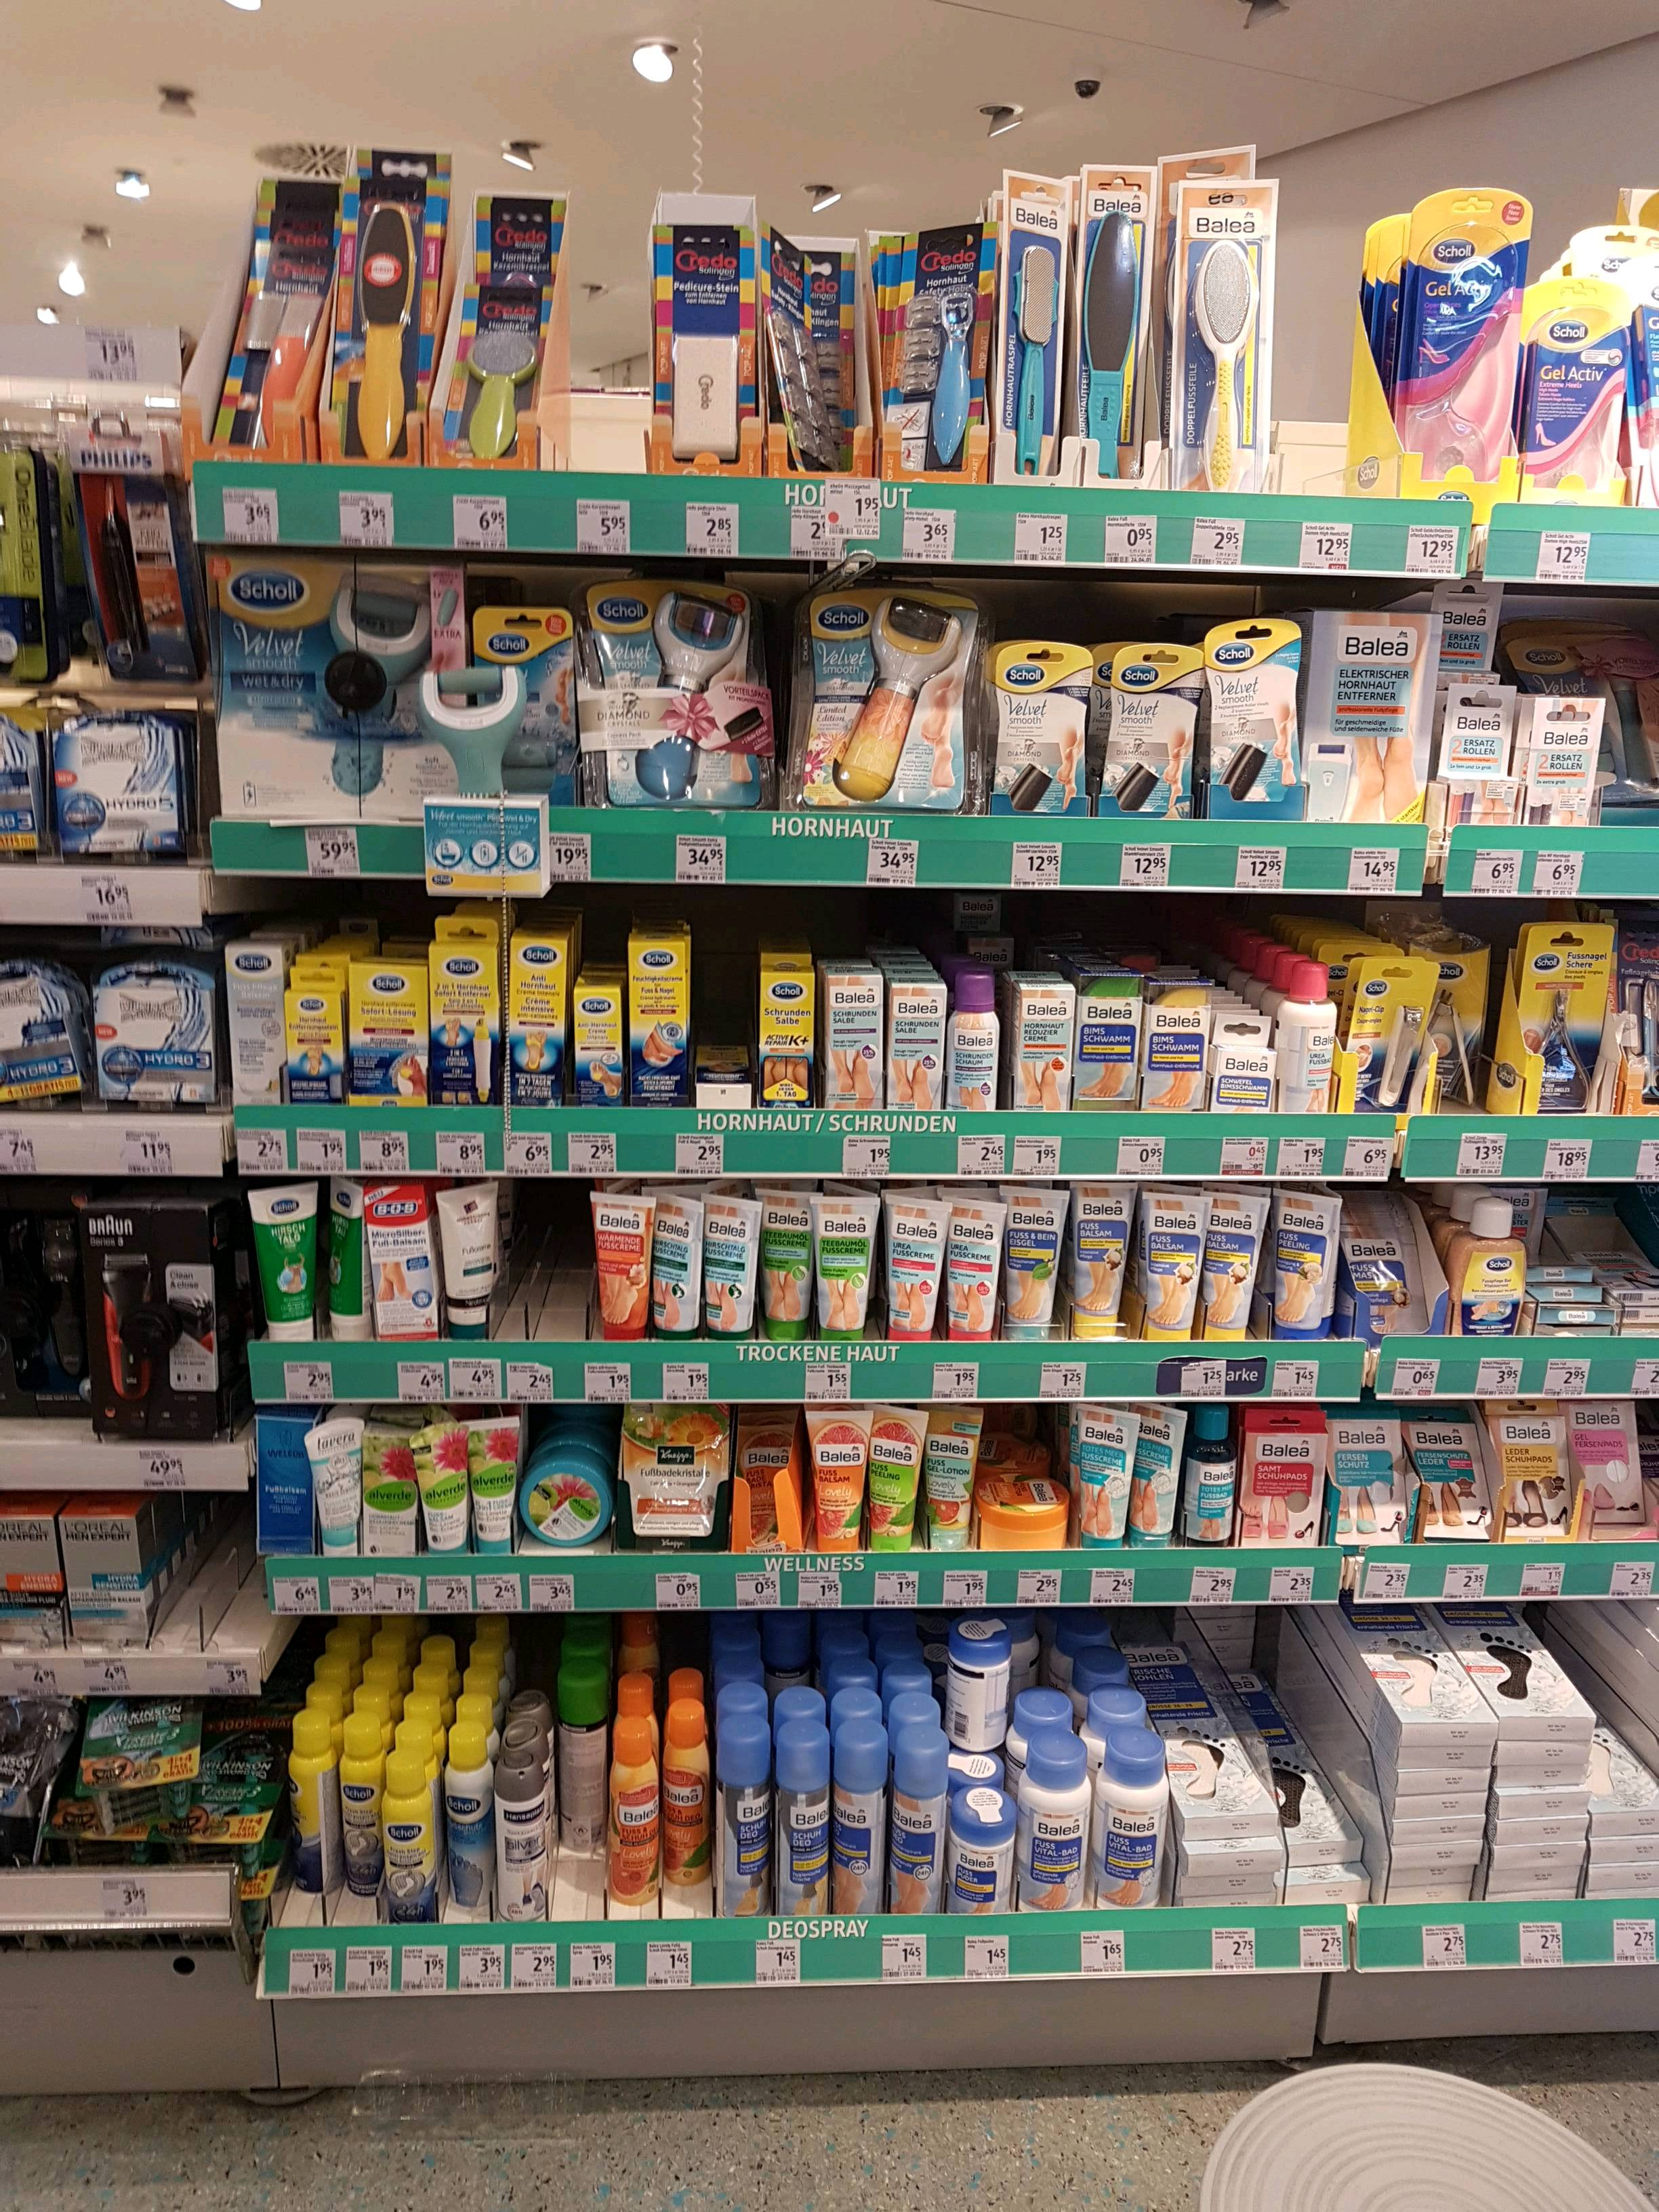Out-of-stock: (530, 1183, 591, 1339)
